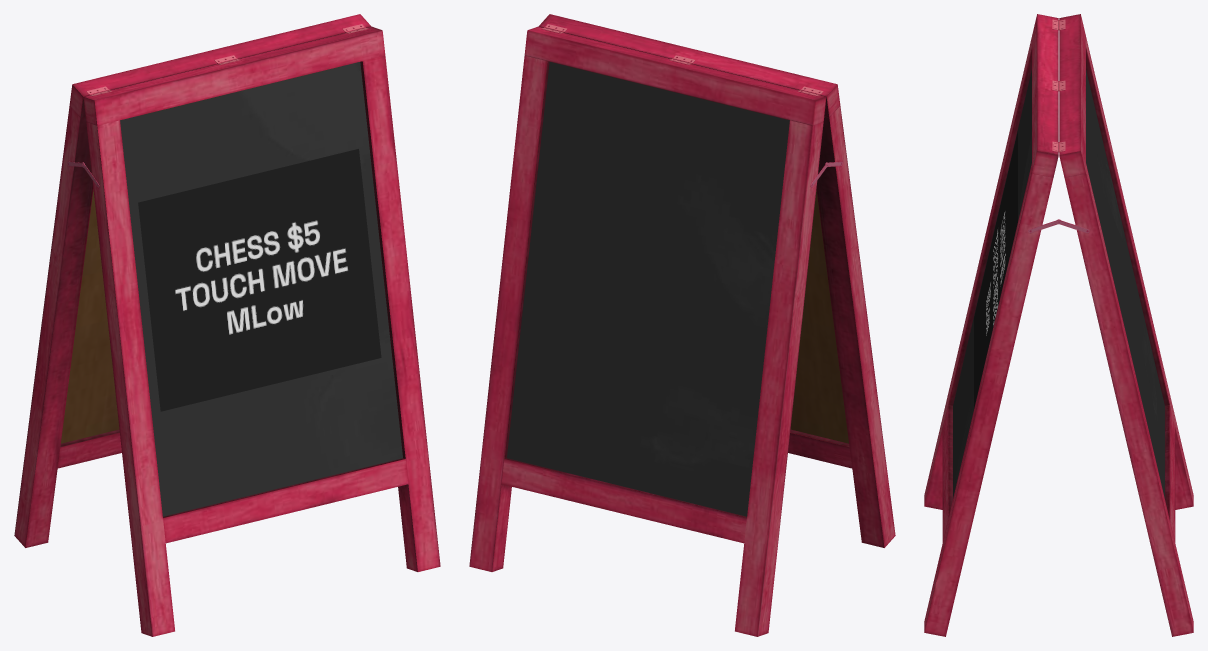
Rendered from nyb_bobbyfischer_sign.glb.
3 renders of one model, left to right at view 1: azimuth 30°, elevation 25°; view 2: azimuth 150°, elevation 25°; view 3: azimuth 270°, elevation 25°, orthographic. The views are drawn at different scales.
Visible parts, largest first — view 1: standing_chalkboard_01, stk_lbl_63bd39fcf2.png; view 2: standing_chalkboard_01; view 3: standing_chalkboard_01, stk_lbl_63bd39fcf2.png.
Part boxes in pixels (x1,y1,x2,y2): standing_chalkboard_01: (14,14,440,636); stk_lbl_63bd39fcf2.png: (138,149,381,411); standing_chalkboard_01: (469,14,895,636); standing_chalkboard_01: (924,14,1193,636); stk_lbl_63bd39fcf2.png: (974,131,1017,408).
Size of the model in its own units: 0.9195 by 1.51 by 0.7587.
Materials: 3 (3 with a texture image).
